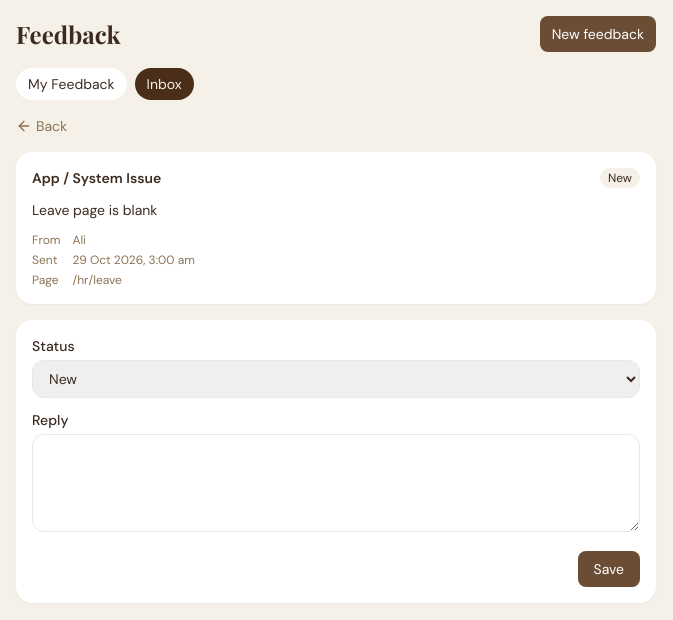
it: FeedbackPage › owner Save sends status and reply, reloads the inbox and returns to the list
Select "Resolved" in the dropdown labelled "Status". click: (336, 379)
box: x1=32 y1=360 x2=640 y2=398
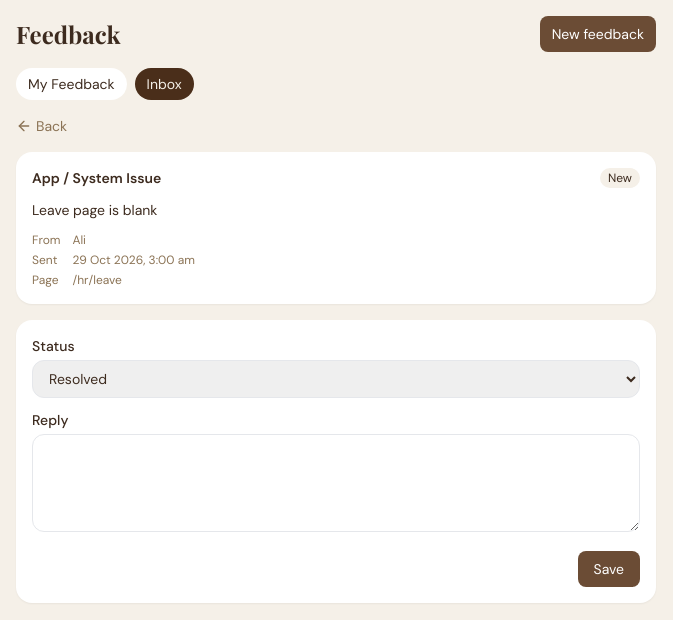
Type "Fixed in v2" into the text box labelled "Reply". click: (336, 483)
box: x1=32 y1=434 x2=640 y2=532
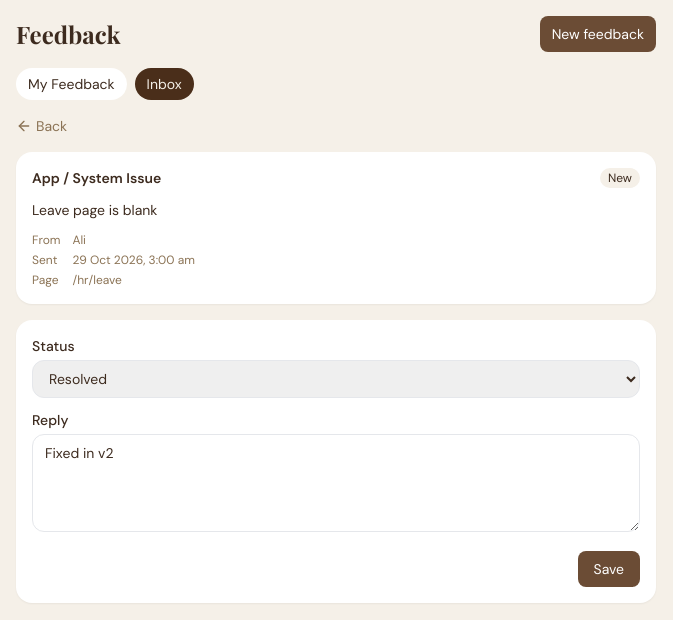
Click the button "Save". click: (609, 569)
box: x1=578 y1=551 x2=640 y2=587
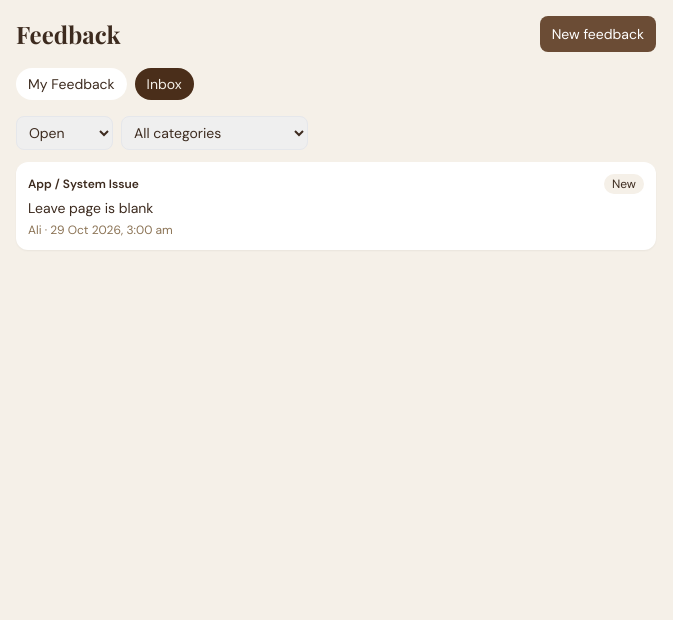
expect the label labelled "Reply" is gone: met
expect the dropdown named "Filter by status" is shown: met, box x1=16 y1=116 x2=113 y2=150
